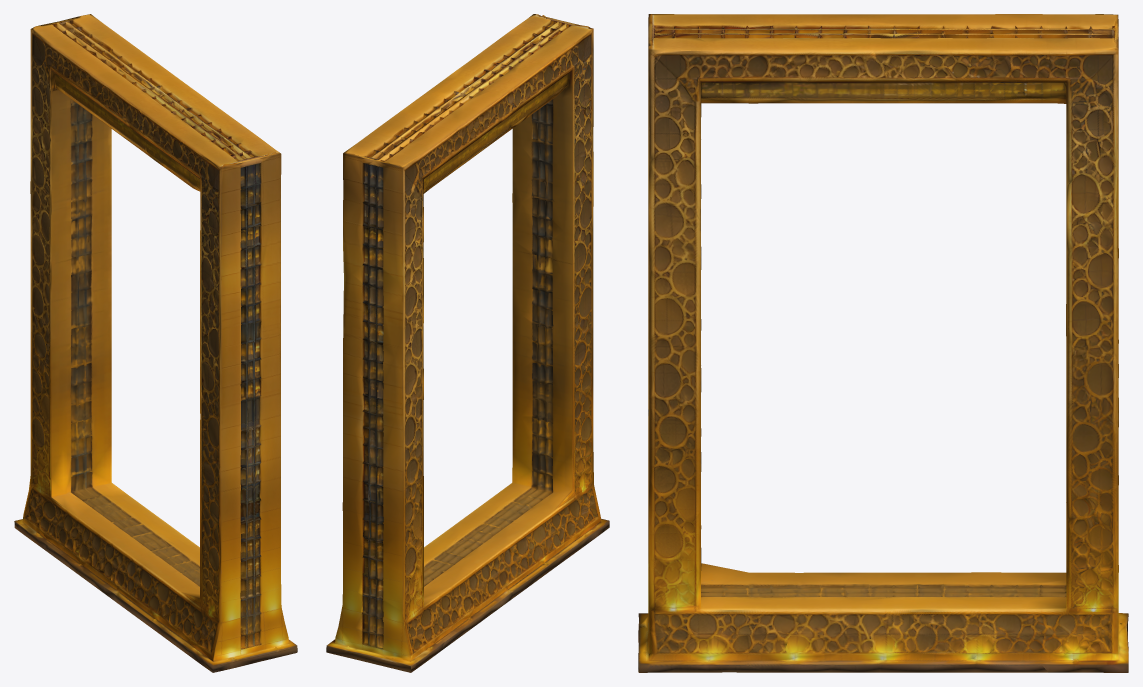
Rendered from gold_frame.glb.
The picture shows the model from 3 angles, left to right: view 1: azimuth 30°, elevation 25°; view 2: azimuth 150°, elevation 25°; view 3: azimuth 270°, elevation 25°; orthographic projection. The views are drawn at different scales.
Visible parts, largest first — view 1: tripo_node_2594eb00-2beb-49f2-8a5f-ffa1ff90b79c; view 2: tripo_node_2594eb00-2beb-49f2-8a5f-ffa1ff90b79c; view 3: tripo_node_2594eb00-2beb-49f2-8a5f-ffa1ff90b79c.
Part boxes in pixels (x1,y1,x2,y2): tripo_node_2594eb00-2beb-49f2-8a5f-ffa1ff90b79c: [14, 14, 297, 672]; tripo_node_2594eb00-2beb-49f2-8a5f-ffa1ff90b79c: [326, 14, 609, 672]; tripo_node_2594eb00-2beb-49f2-8a5f-ffa1ff90b79c: [638, 14, 1128, 672].
Size of the model in its own units: 0.178 by 1 by 0.7193.
Materials: 1 (1 with a texture image).
